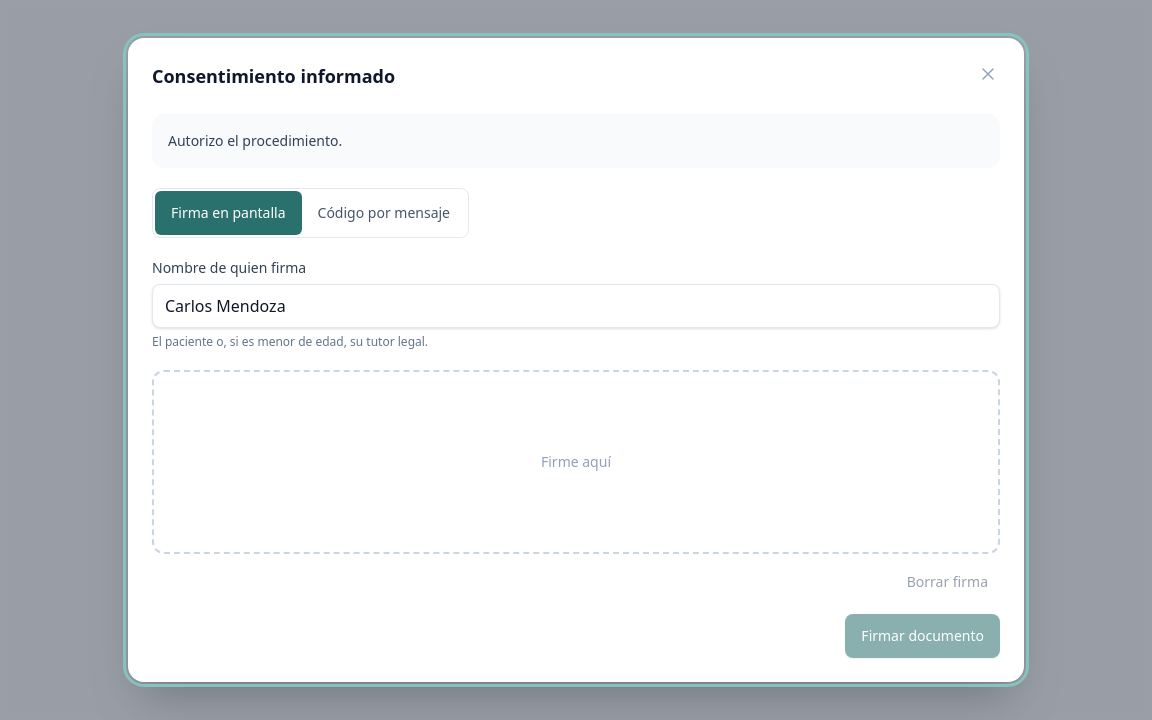
Scenario: <SigningDialog>: firma táctil (RF-06) › muestra el error del servidor sin cerrar el diálogo
Press the mouse on the picture named "Área de firma" at [576, 462], box [154,372,998,552]
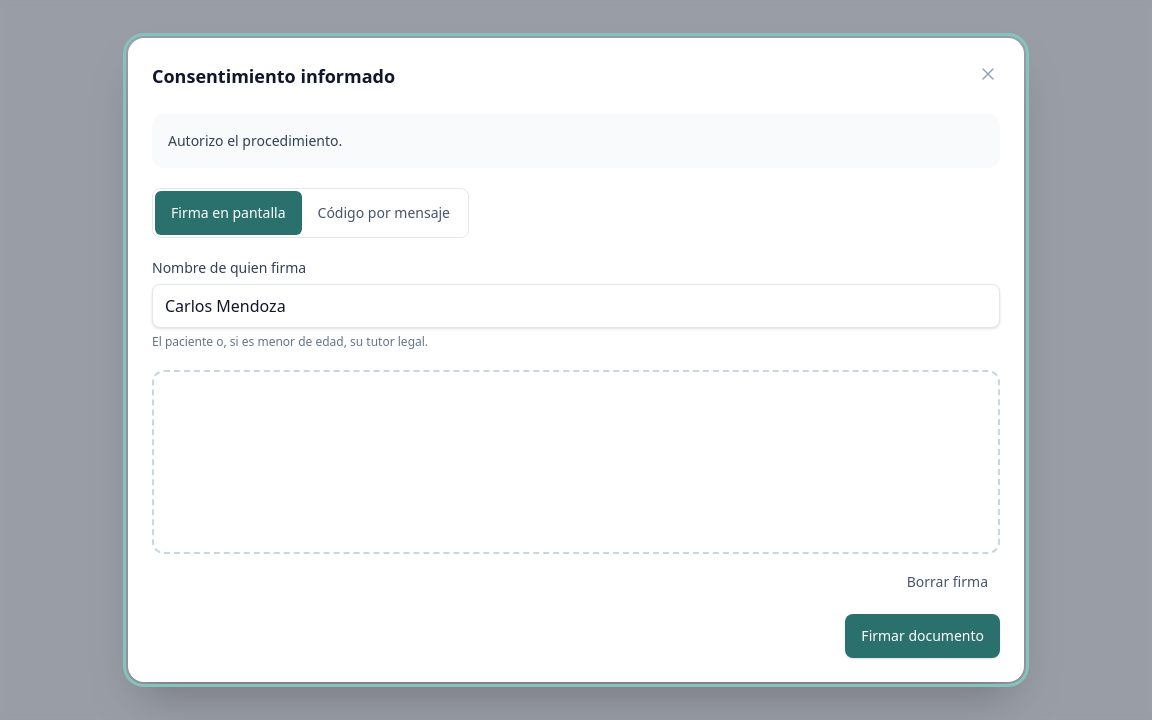
Click the button "Firmar documento" at [923, 636], box [845,614,1000,658]
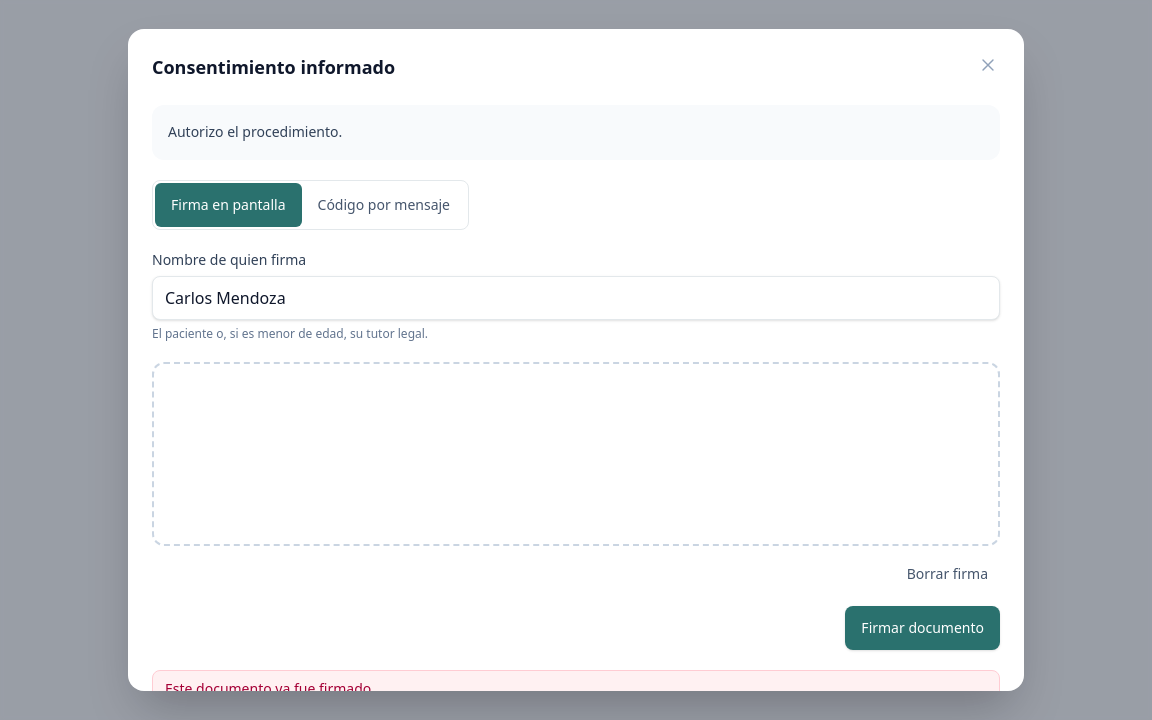
Result: the message shows "ya fue firmado" at [165,678,371,691]
